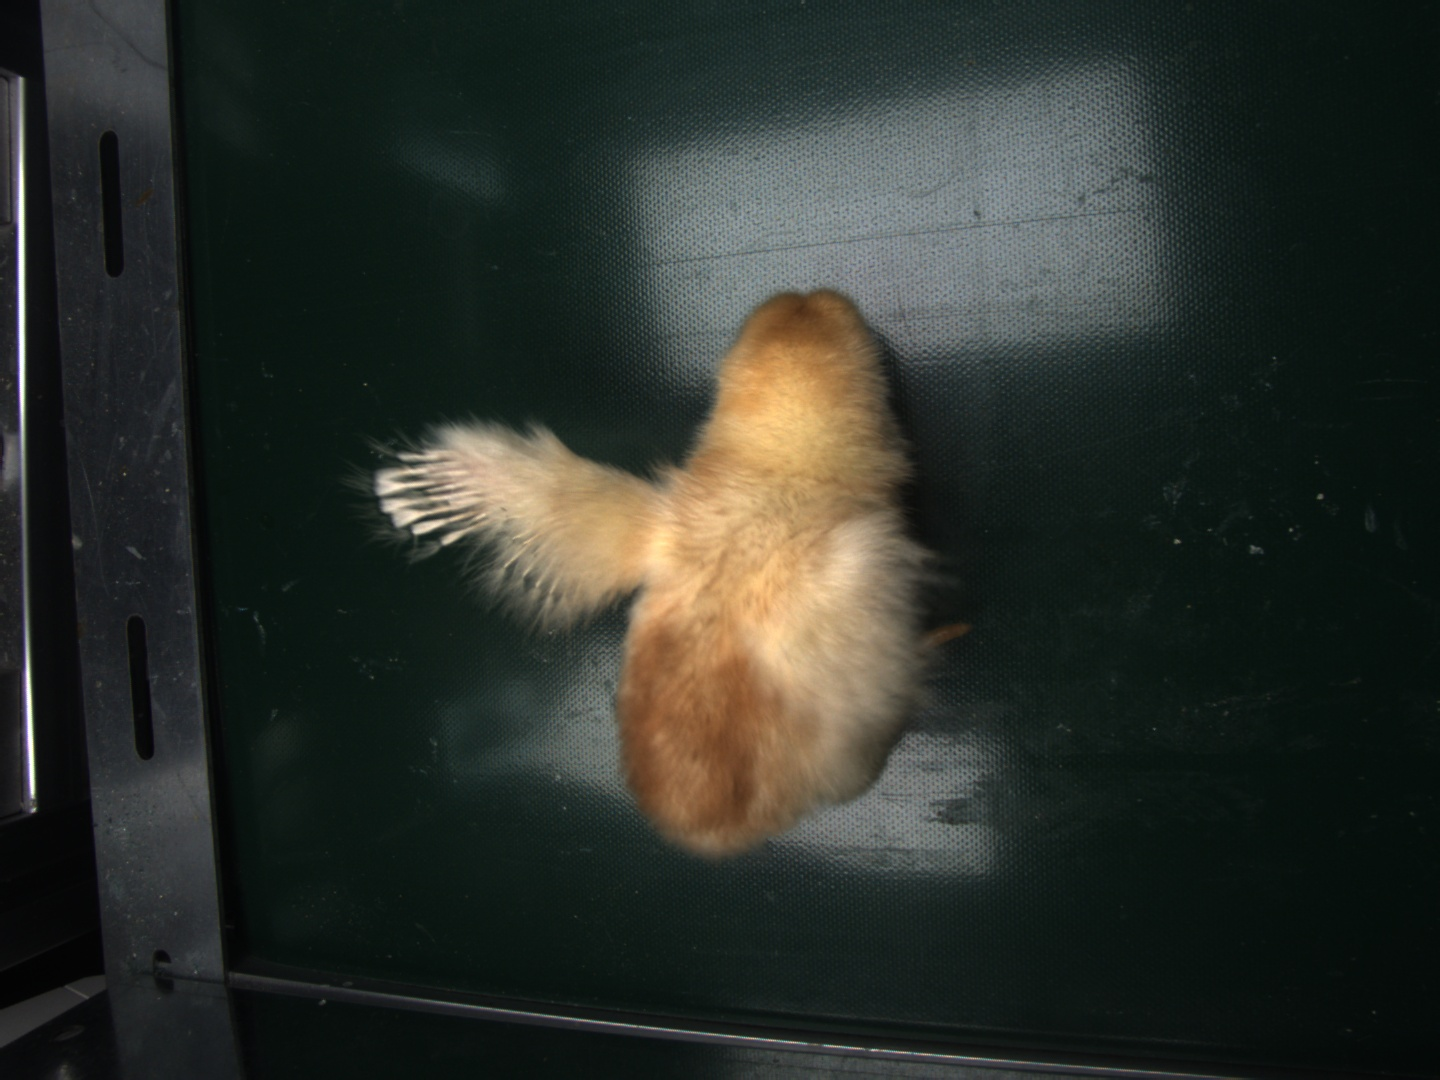female: (373, 447, 491, 546)
